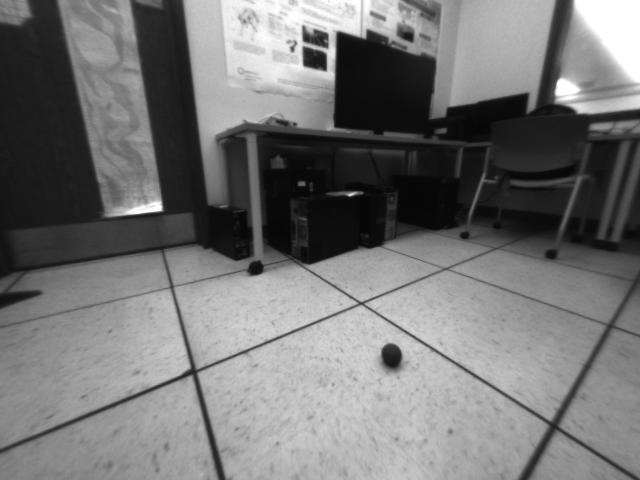dogtoy: (373, 339, 409, 371)
